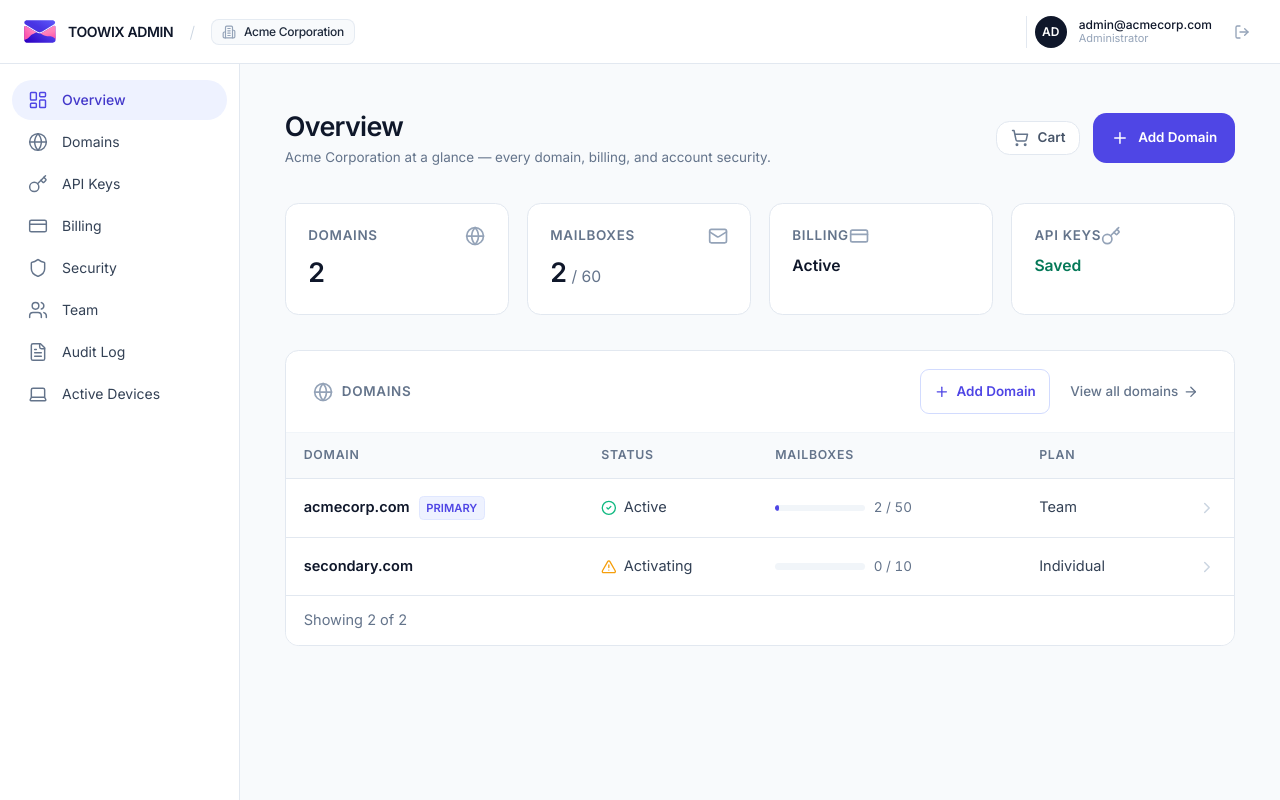
Test: TenantHomeView Component › lists saved API keys with a nav tab, and removes one when deleted
This screenshot has width=1280, height=800.
Expected: the heading "Overview" is shown, 285,110 -> 403,142
Click the button "API Keys" at x=120, y=184, box 12,164 -> 227,204
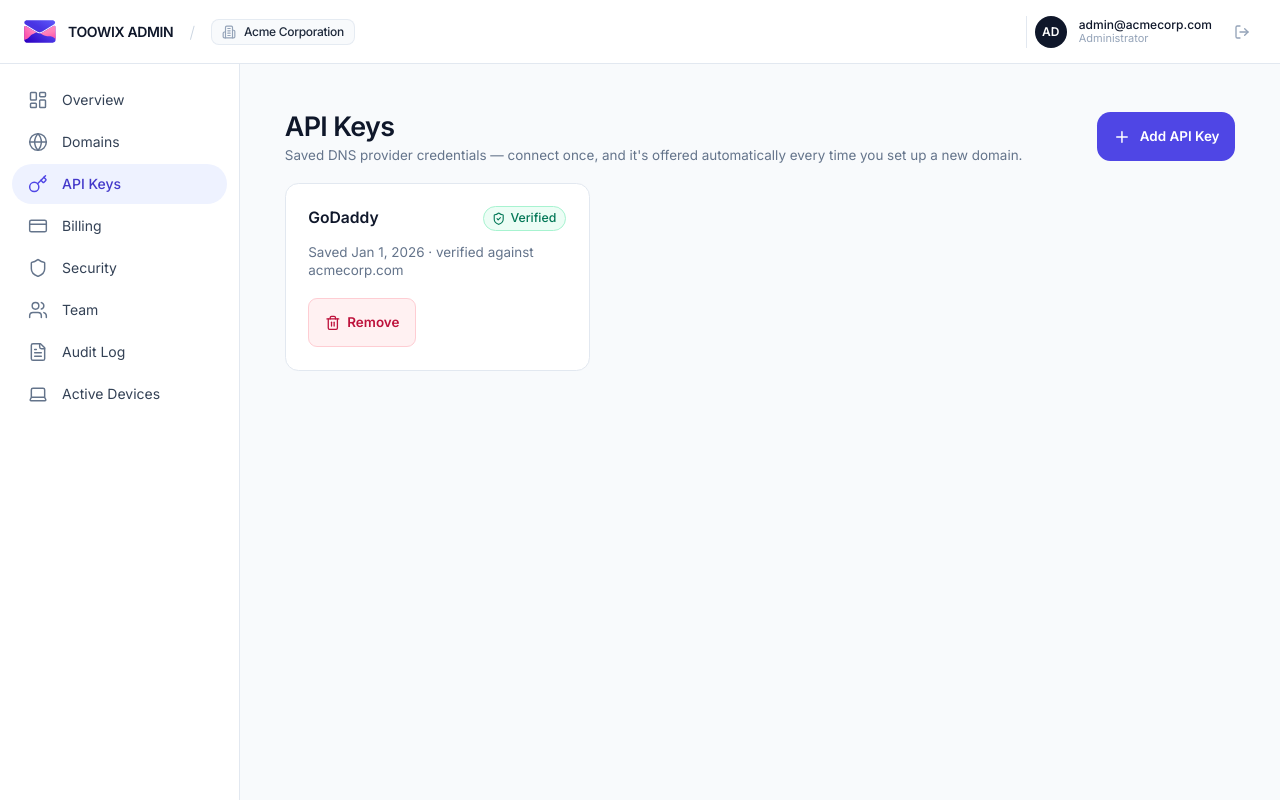
Expected: the text "GoDaddy" is shown, 308,207 -> 379,230
Expected: the text "Verified" is shown, 482,206 -> 566,231
Click the button "Remove" at x=362, y=323, box 308,298 -> 416,348
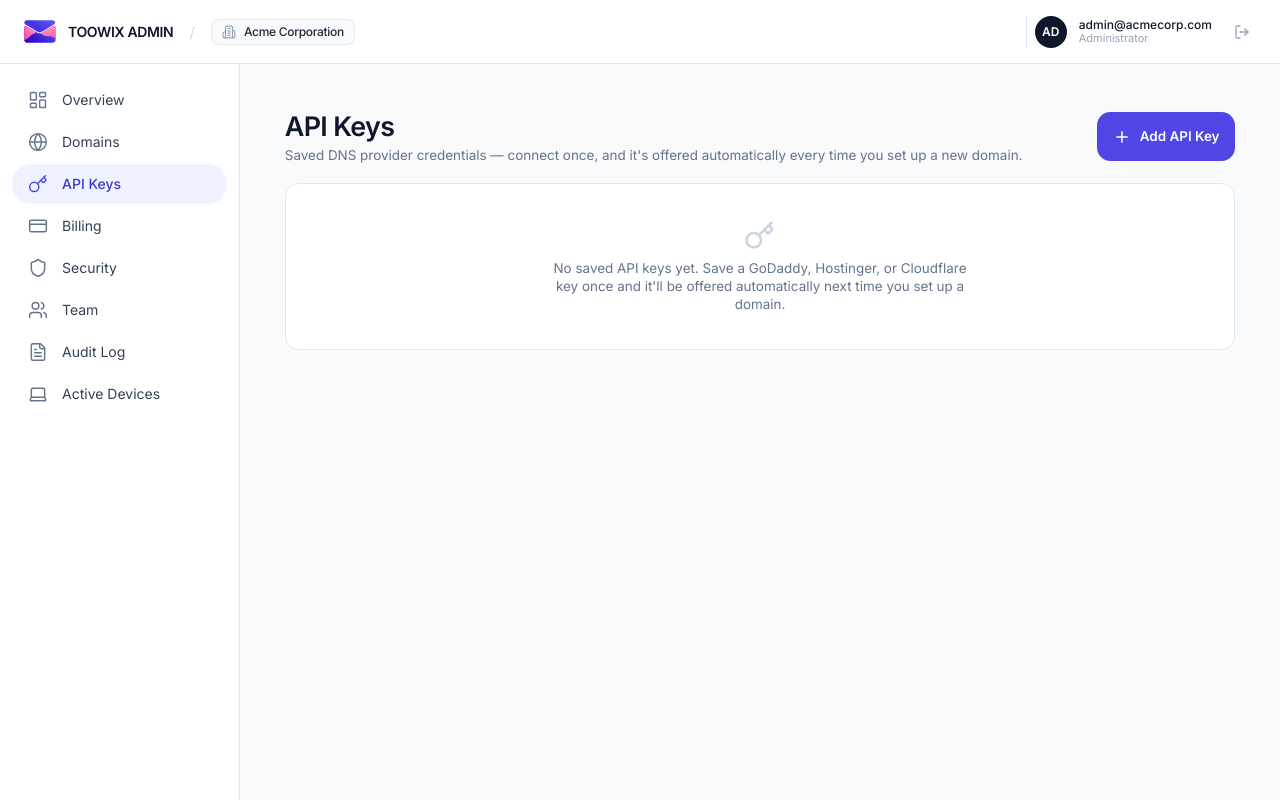
Expected: the text "No saved API keys yet" is shown, 554,260 -> 966,312
